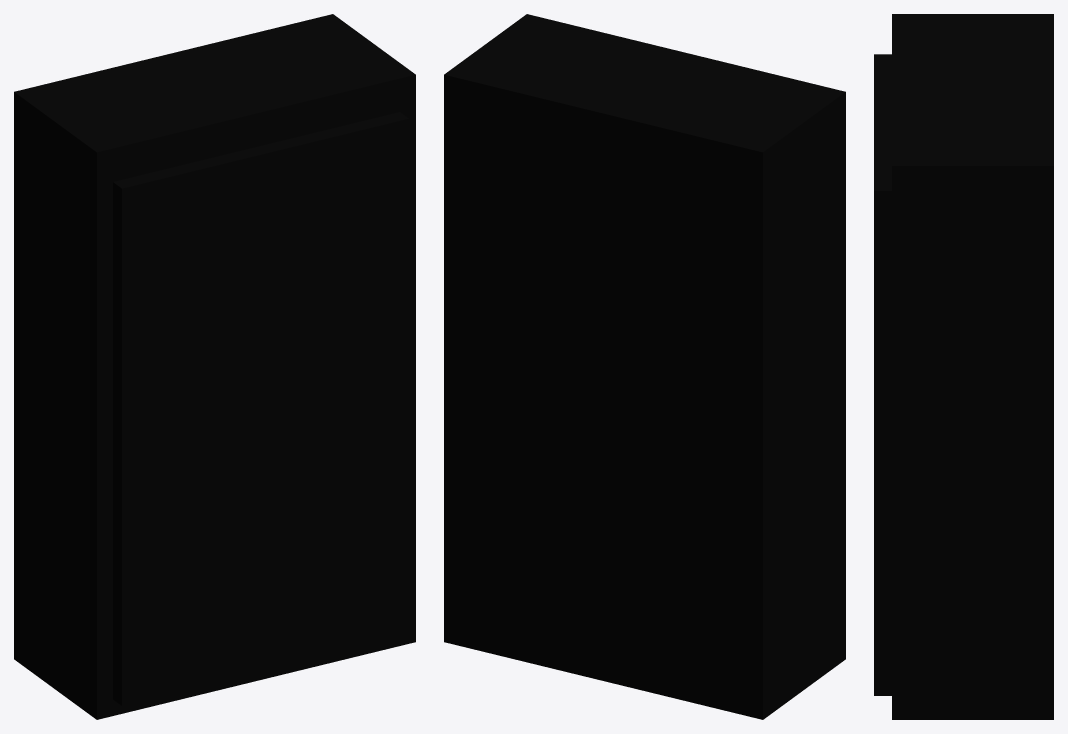
Rendered from bedroomWardrobe.glb.
The picture shows the model from 3 angles, left to right: view 1: azimuth 30°, elevation 25°; view 2: azimuth 150°, elevation 25°; view 3: azimuth 270°, elevation 25°; orthographic projection. The views are drawn at different scales.
Visible parts, largest first — view 1: bedroomWardrobe_0; view 2: bedroomWardrobe_0; view 3: bedroomWardrobe_0.
Part boxes in pixels (left/top/right/bottom): bedroomWardrobe_0: left=14, top=14, right=415, bottom=719; bedroomWardrobe_0: left=444, top=14, right=845, bottom=719; bedroomWardrobe_0: left=874, top=14, right=1053, bottom=719.
Size of the model in its own units: 1.25 by 2.12 by 0.625.
Materials: 1 (1 with a texture image).
